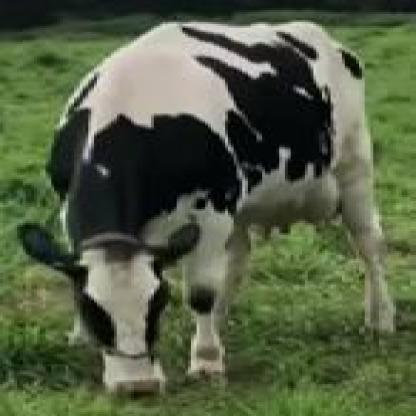cow: (47, 24, 395, 396)
